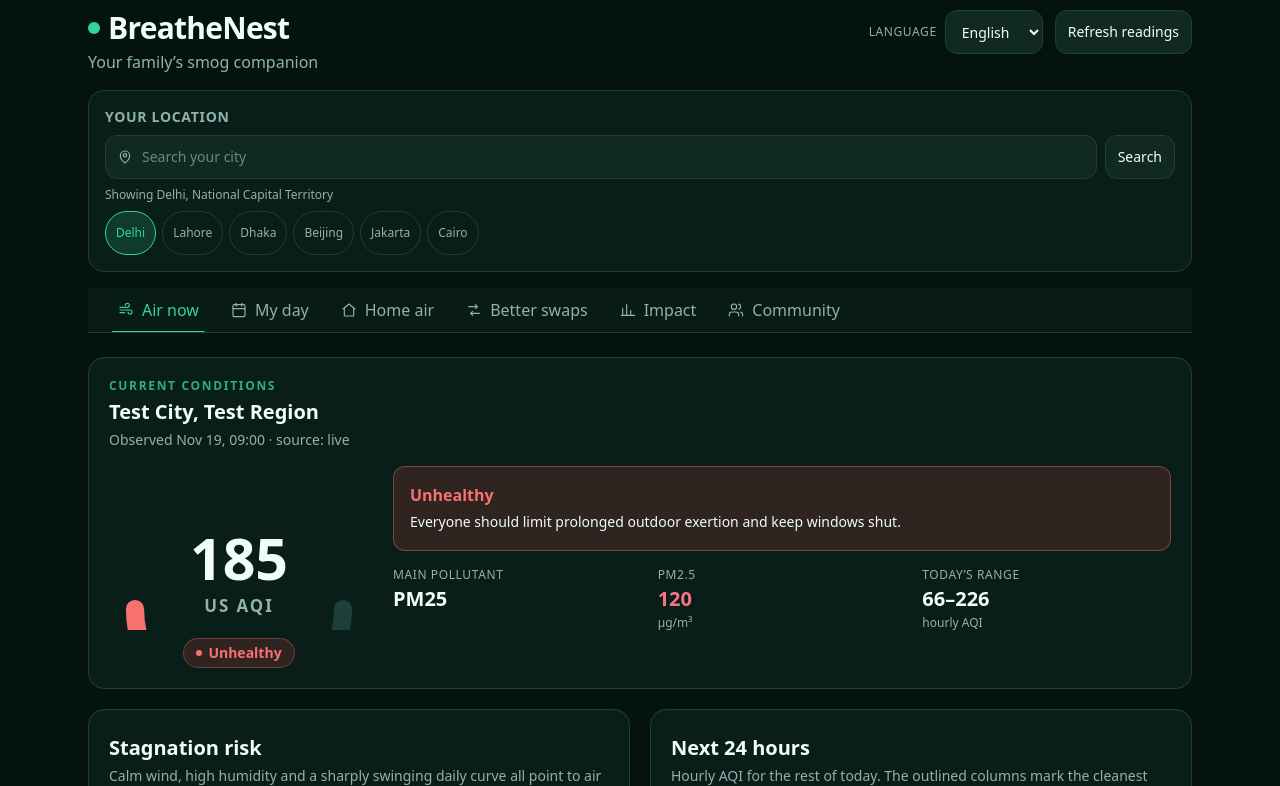
swaps → impact ledger › hides swaps that do not fit the household
This screenshot has width=1280, height=786.
Click the tab "Better swaps" at (527, 310), box [452,288,602,332]
(page scrolled)
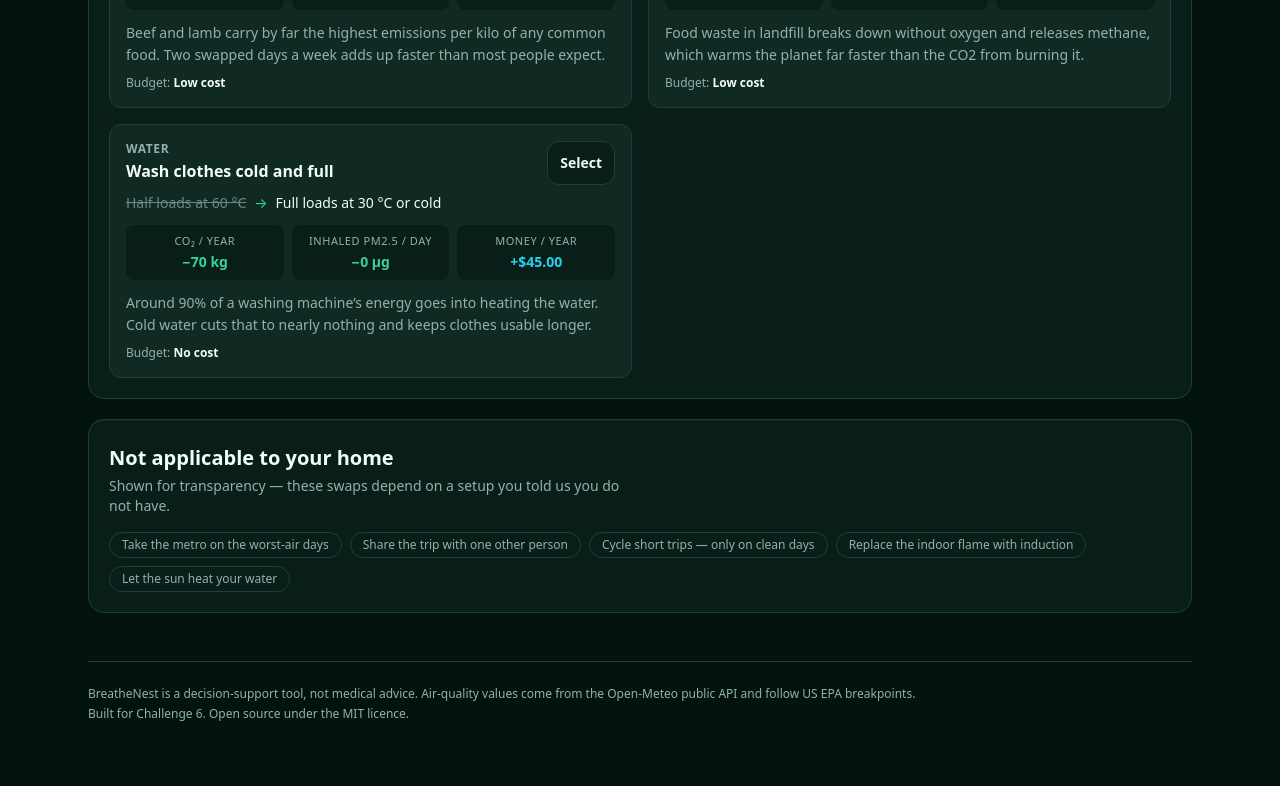
Expected: the heading "Not applicable to your home" is shown, [109,444,394,471]
Expected: the list item "Let the sun heat your water" is shown, [109,566,290,592]
